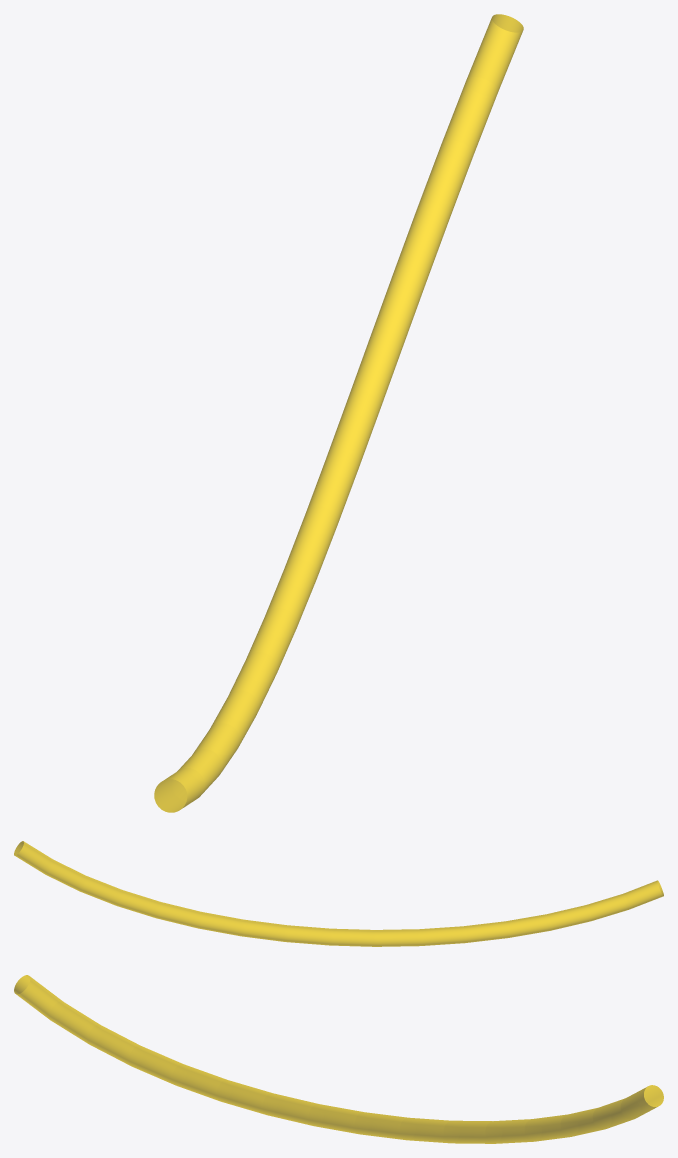
Rendered from Event_27938768_track_57.fbx.
The picture shows the model from 3 angles, top to bottom: view 1: azimuth 30°, elevation 25°; view 2: azimuth 150°, elevation 25°; view 3: azimuth 270°, elevation 25°; orthographic projection. The views are drawn at different scales.
Visible parts, largest first — view 1: Model; view 2: Model; view 3: Model.
Boxes of the visible parts, x1,y1,x2,y2 form: Model: (154, 14, 523, 812); Model: (14, 841, 663, 946); Model: (14, 975, 663, 1143).
Size of the model in its own units: 1.13 by 0.3864 by 1.14.
